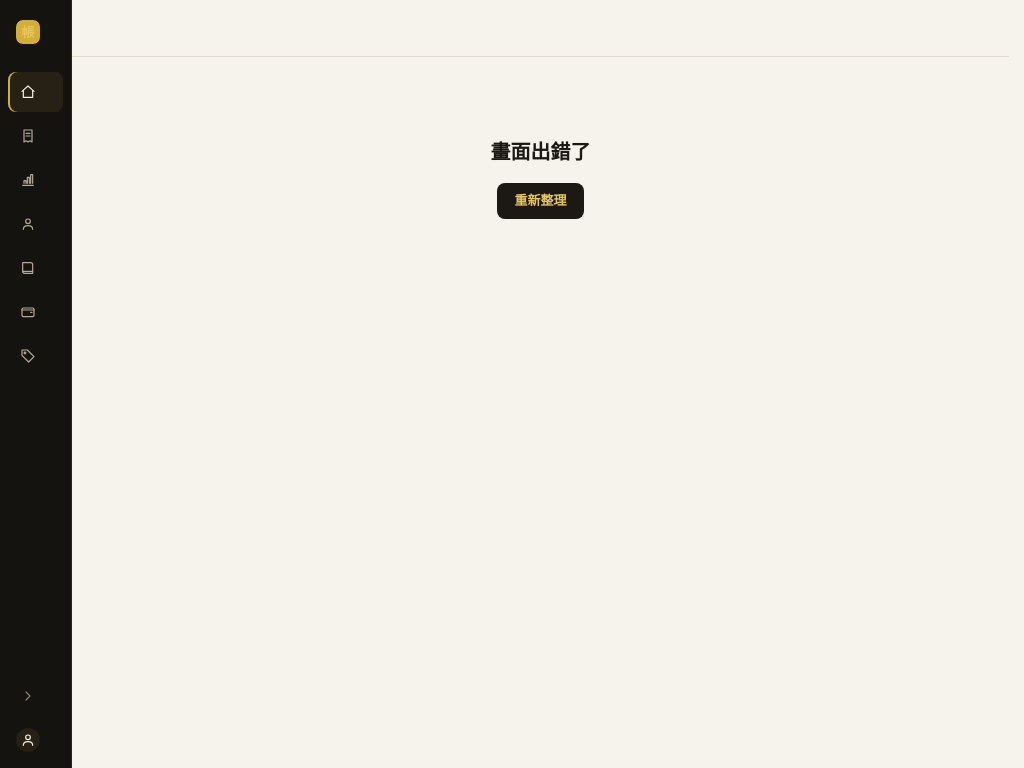
it: AppSidebar 在 901–1199px 的浮動展開 › floats open without remembering the choice, and retracts after a link
Click the button named "展開側欄".
click(36, 696)  # box [8,676,63,716]
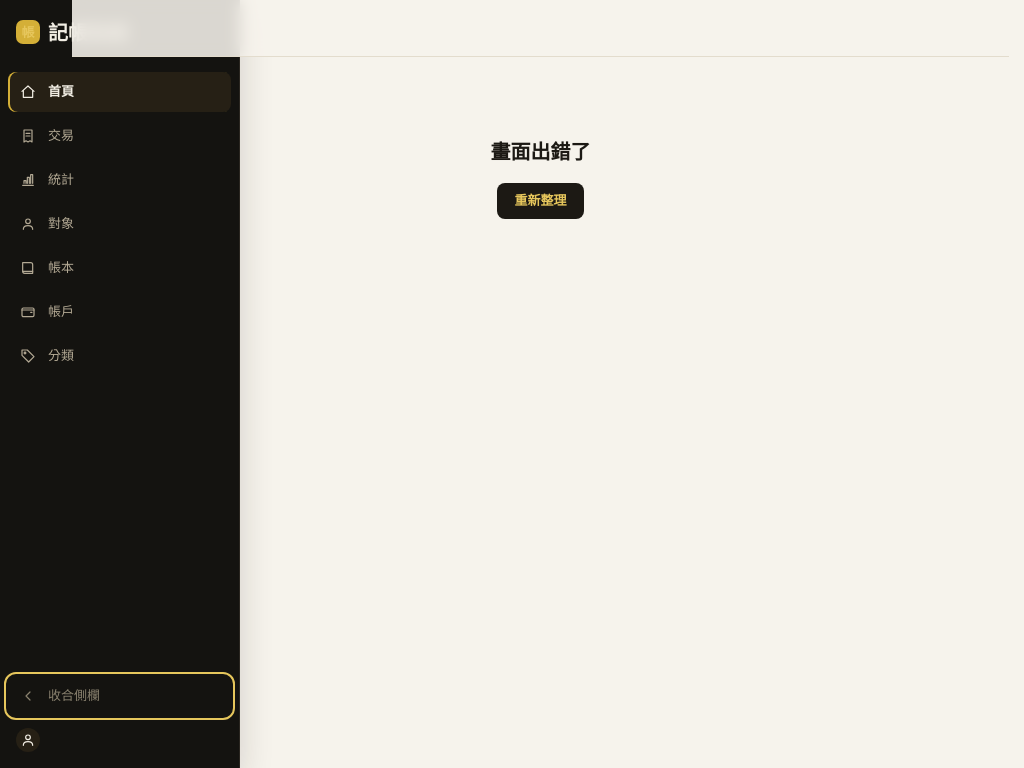
Now the button "收合側欄" is expanded, box [8,676,231,716]
Click the link "帳戶".
click(47, 311)  # box [20,302,74,320]
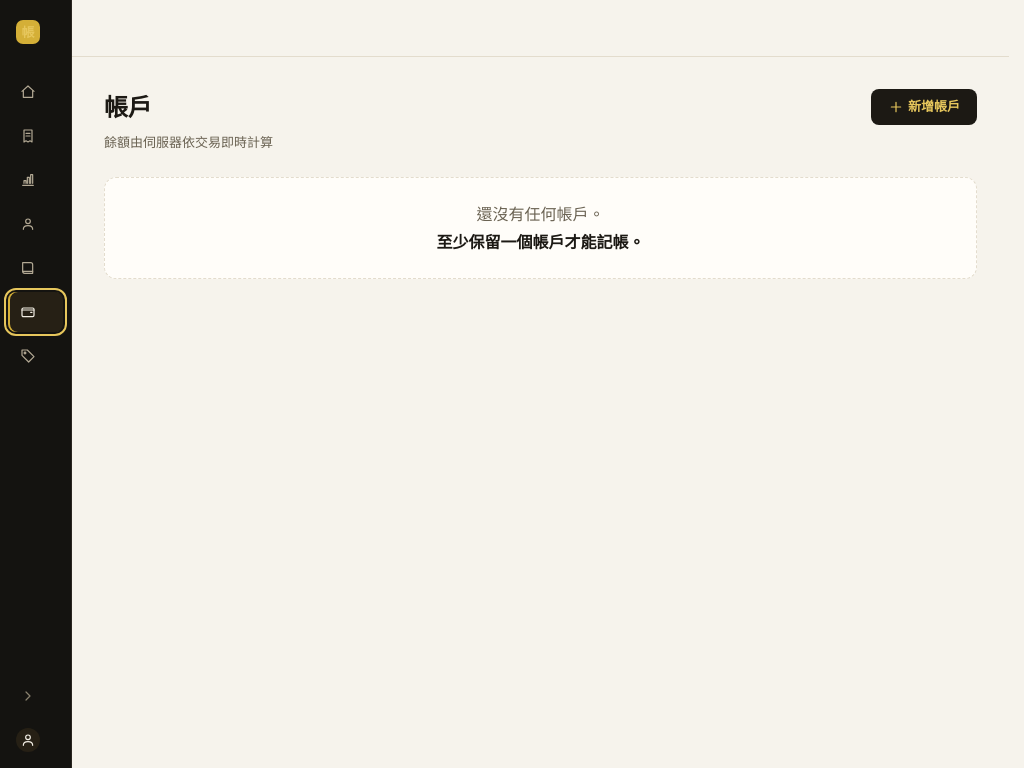
Now the button named "展開側欄" is shown, box [8,676,63,716]
